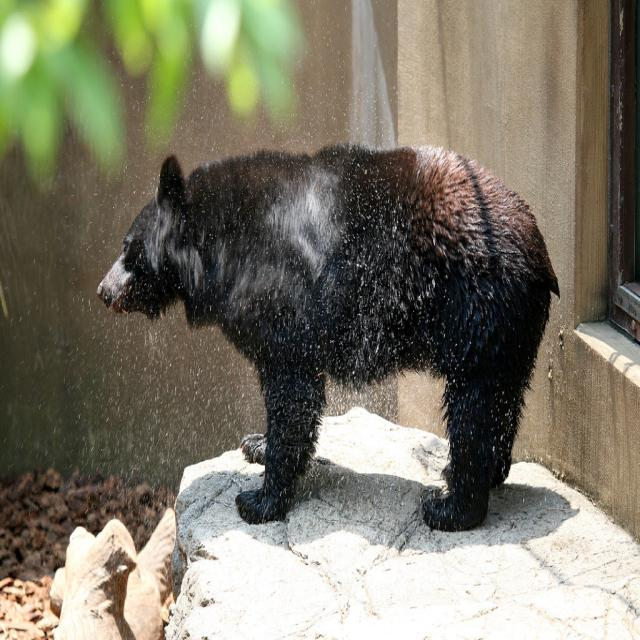Cheetahs: (100, 140, 558, 532)
